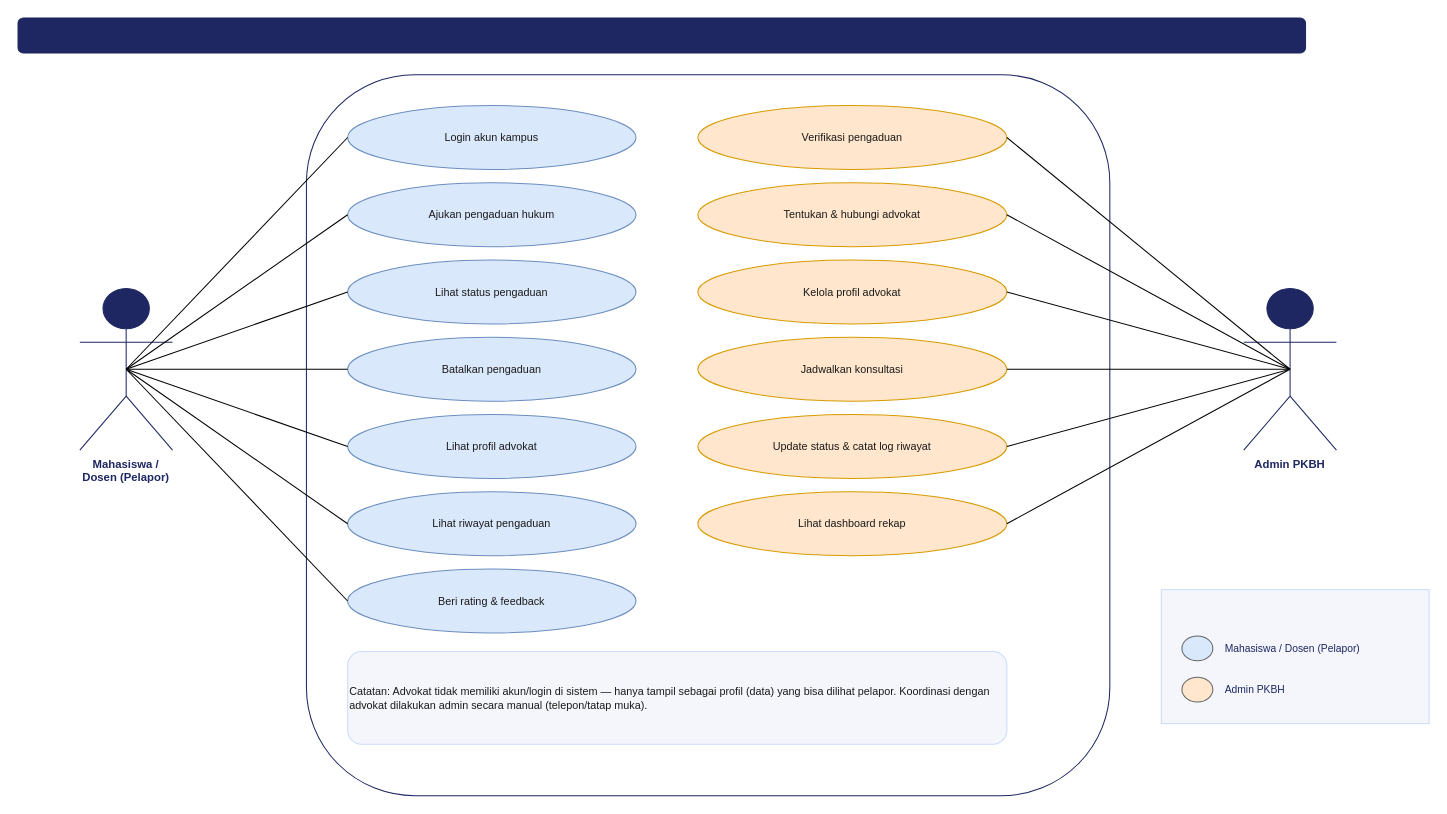
The diagram is 1447 pixels wide and 814 high, and some of its shapes have lost their labels. Here are the shapes that lost their labels. From the top down, the box of each, then its label:
(17, 17, 1306, 53): USE CASE DIAGRAM — SISTEM e-PKBH (2 AKTOR: PELAPOR & ADMIN)
(305, 74, 1110, 796): Sistem e-PKBH
(1160, 589, 1429, 724): Keterangan Aktor
